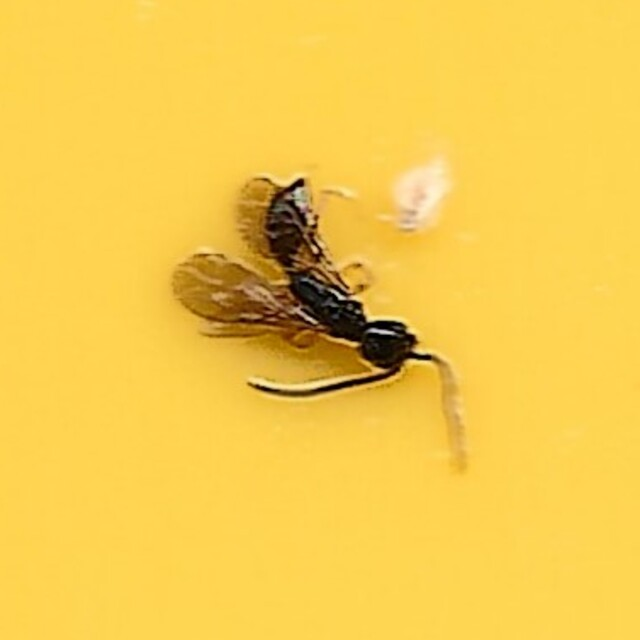Hymenoptera: (170, 172, 470, 468)
